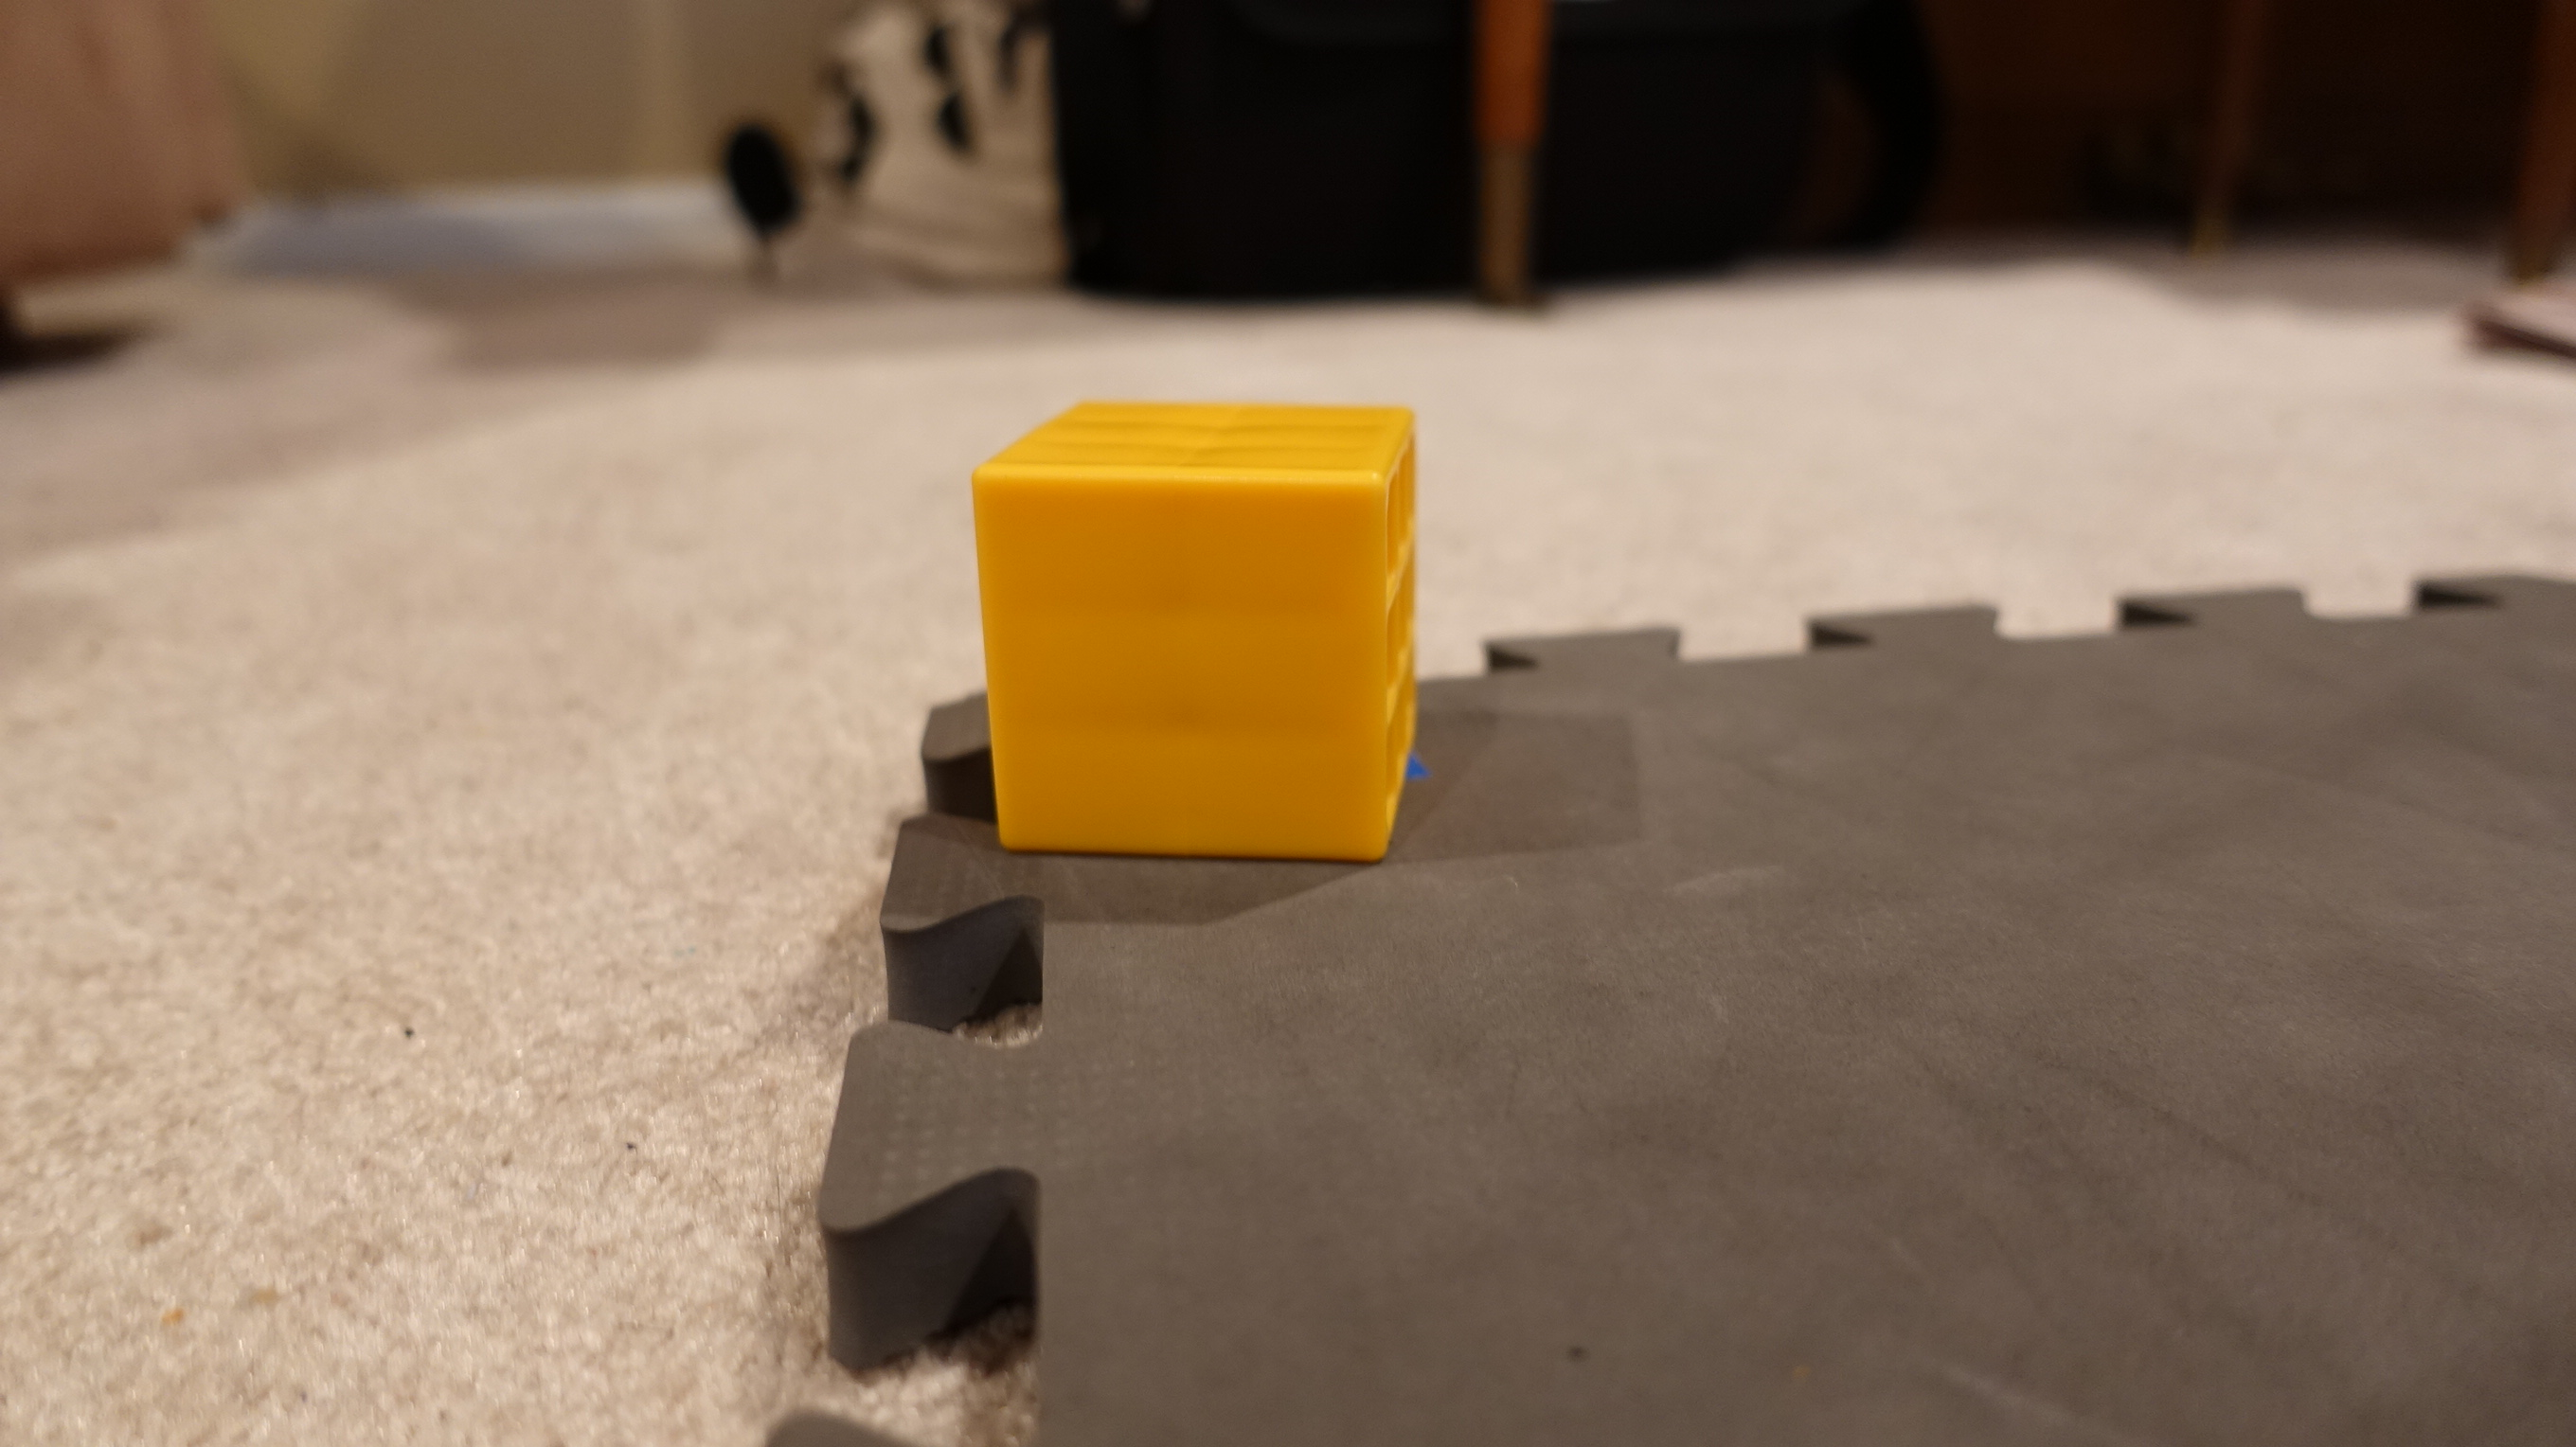gold: (961, 371, 1438, 876)
